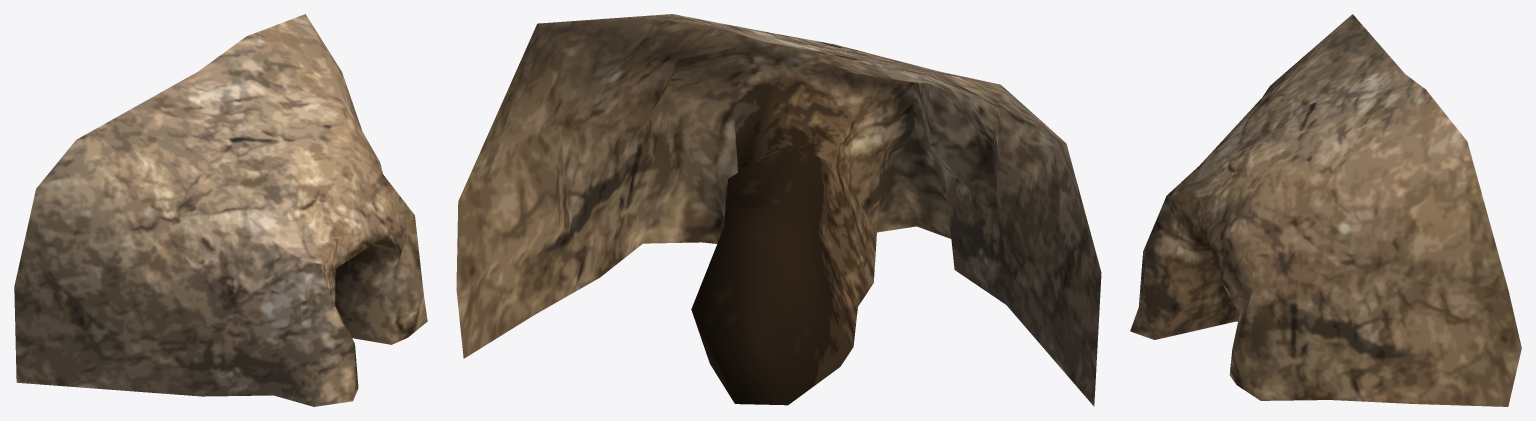
Rendered from Cave 1.fbx.
The picture shows the model from 3 angles, left to right: view 1: azimuth 30°, elevation 25°; view 2: azimuth 150°, elevation 25°; view 3: azimuth 270°, elevation 25°; orthographic projection. The views are drawn at different scales.
Parts seen in each view (by area): view 1: Куб; view 2: Куб; view 3: Куб.
Boxes of the visible parts, <box> form: Куб: <box>14,14,427,406</box>; Куб: <box>456,14,1101,406</box>; Куб: <box>1130,14,1521,406</box>.
Size of the model in its own units: 4203 by 2586 by 3526.
Materials: 1 (1 with a texture image).
